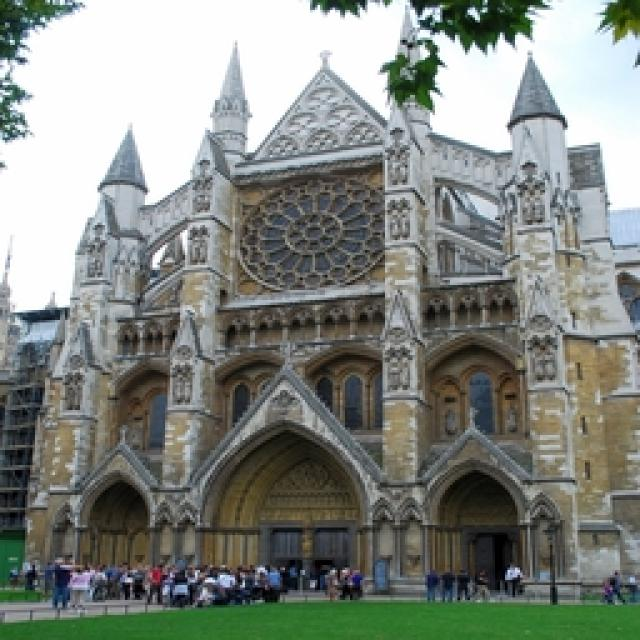Abbey: (53, 37, 631, 581)
